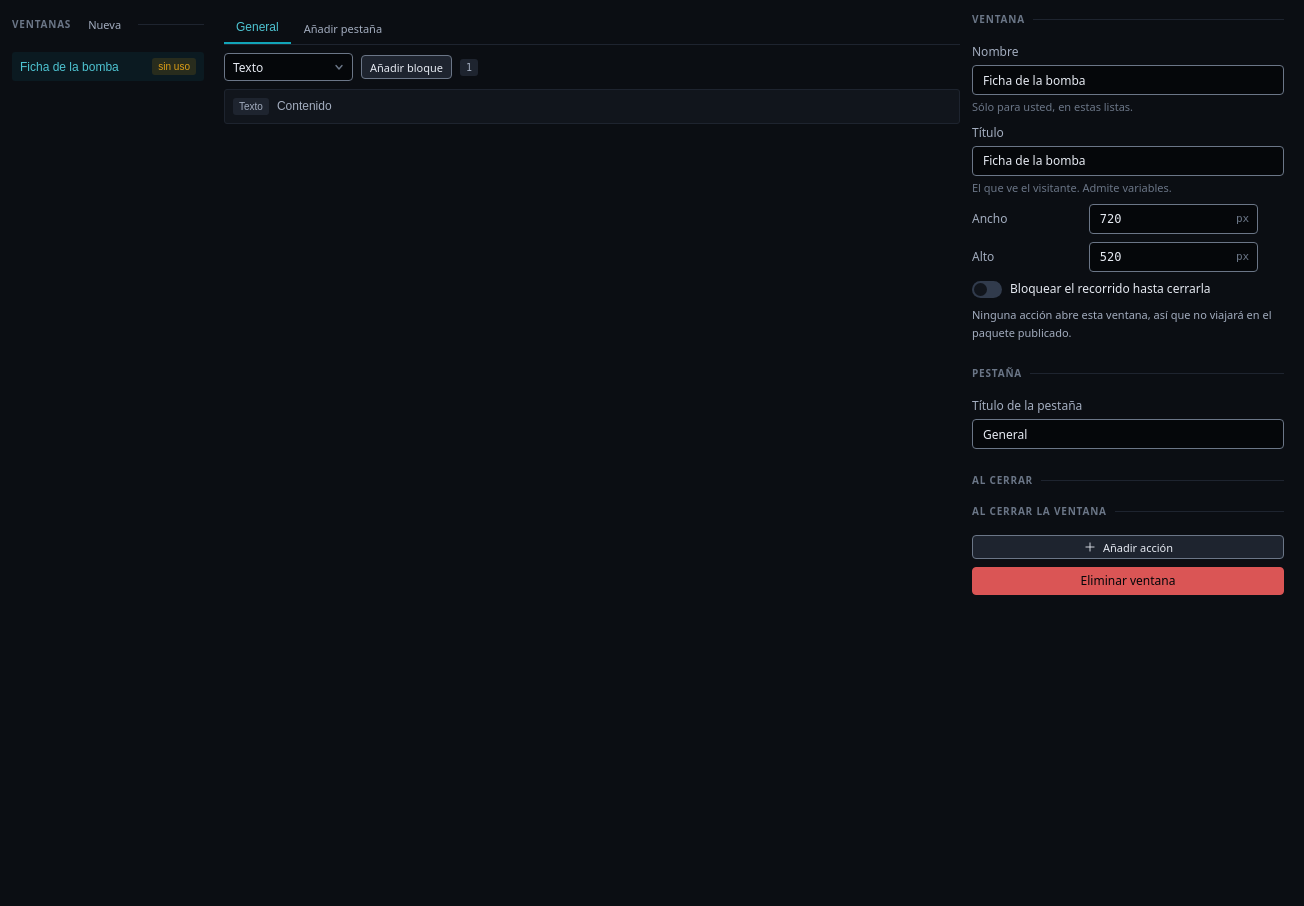
it: InfoWindowsModule › TEST-IWM-007 las variables disponibles están junto al campo de texto
What coordinates should you click on to do the following:
click the button "Texto Contenido"
I would click on:
 (251, 106)
Its box is left=224, top=89, right=960, bottom=124.
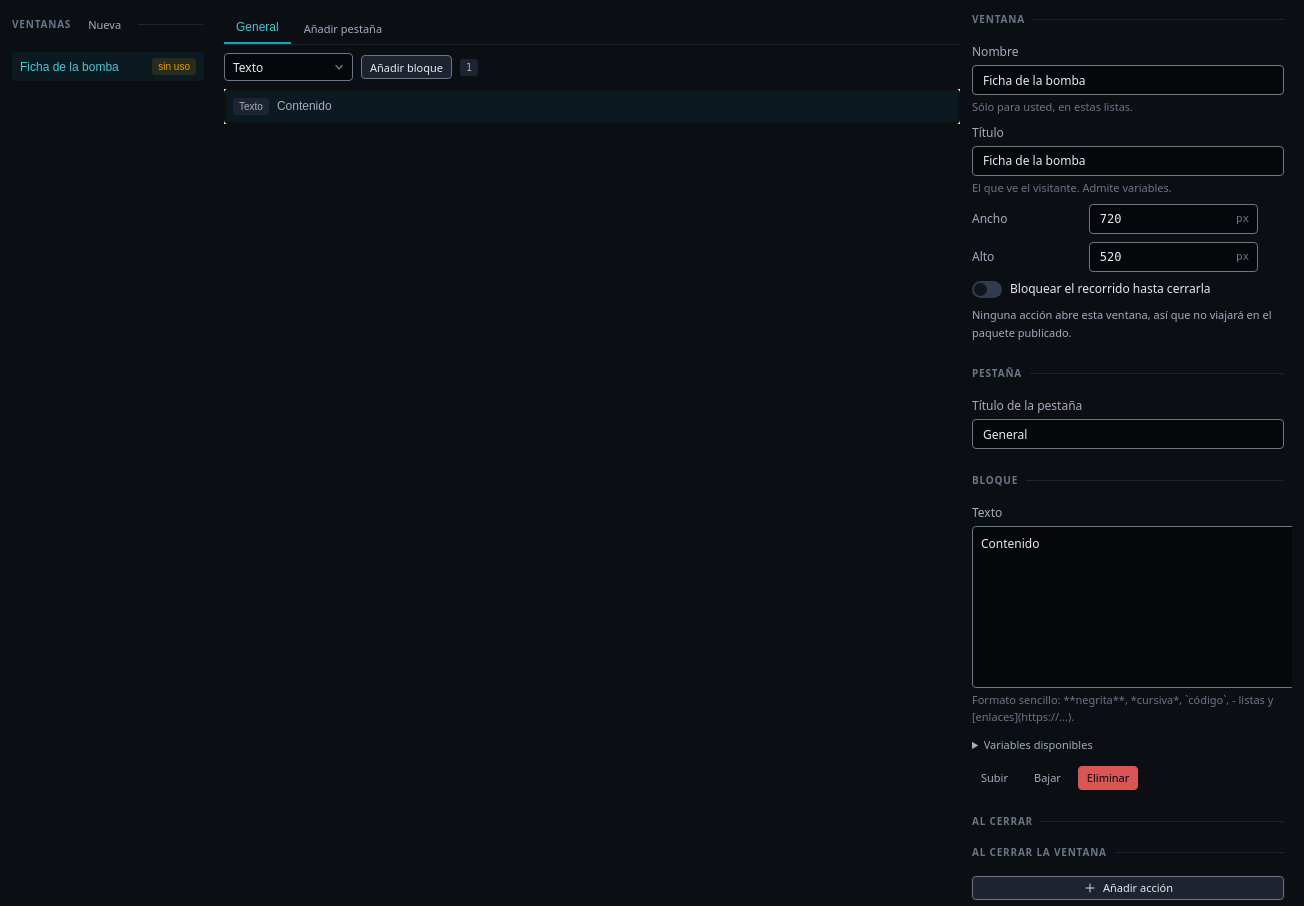
What coordinates should you click on to do the following:
click the heading "Variables disponibles"
I would click on:
 (1038, 745)
Its box is left=984, top=737, right=1093, bottom=752.
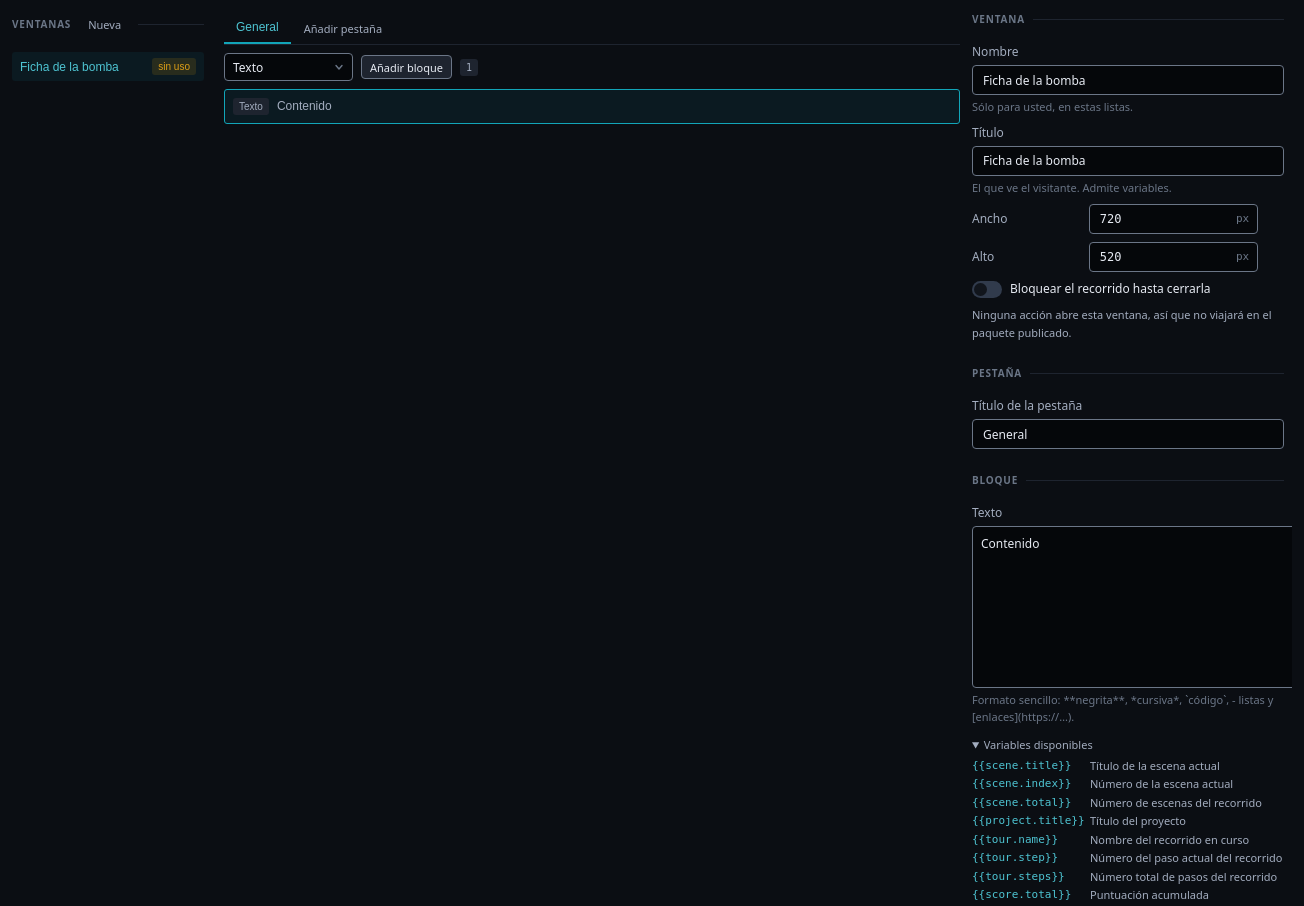
Expected: the text "{{scene.title}}" is shown, left=972, top=758, right=1082, bottom=774
Expected: the text "{{score.total}}" is shown, left=972, top=887, right=1082, bottom=904
